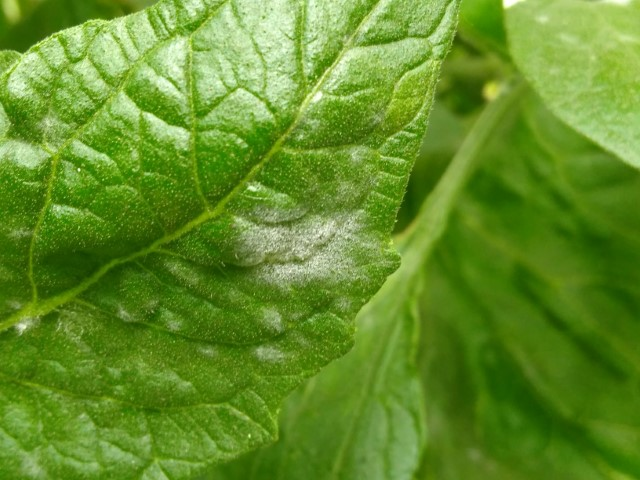oidio: (225, 206, 371, 283), (252, 342, 293, 367), (264, 305, 290, 334)
